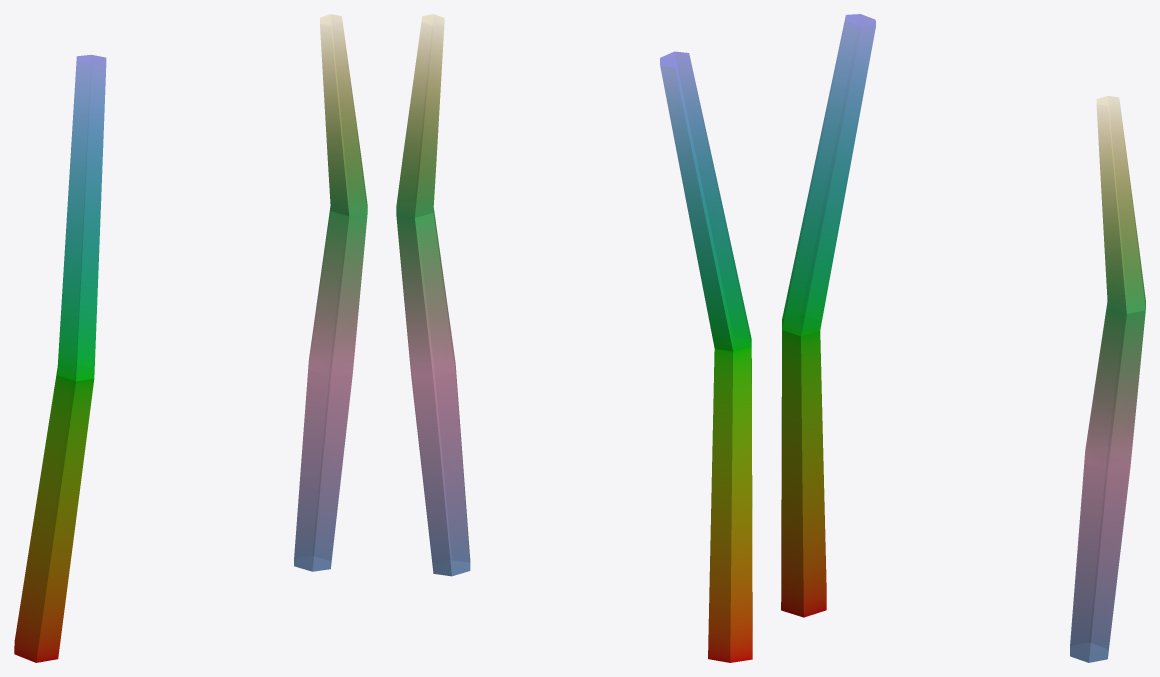
3 renders of one model, left to right at view 1: azimuth 30°, elevation 25°; view 2: azimuth 150°, elevation 25°; view 3: azimuth 330°, elevation 25°, orthographic. The views are drawn at different scales.
Parts seen in each view (by area): view 1: Imported HAIR group 0; view 2: Imported HAIR group 0; view 3: Imported HAIR group 0.
Part boxes in pixels (box(x1,y1,x2,y2)): Imported HAIR group 0: box(14, 14, 367, 662); Imported HAIR group 0: box(396, 14, 752, 662); Imported HAIR group 0: box(781, 14, 1145, 662).
Size of the model in its own units: 0.9597 by 1.52 by 0.1953.
